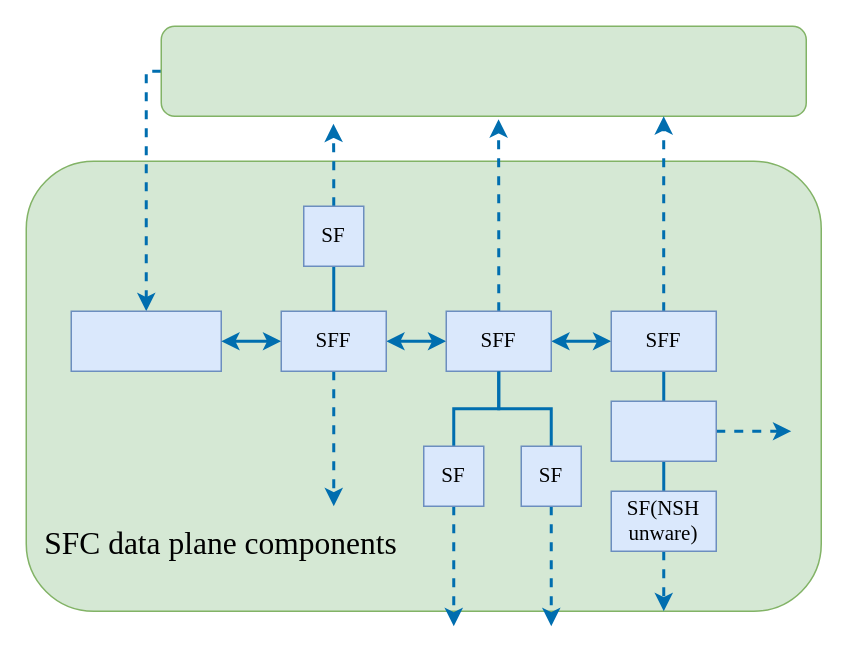
Image size: 848x666. Some labels were removed from this diagram. Here are the shapes that lost their labels. From the top down, the centre of each, then its label:
At point 483,70: "SFC Control plane".
At point 145,340: "SFC classifier".
At point 663,430: "SFF proxy".
